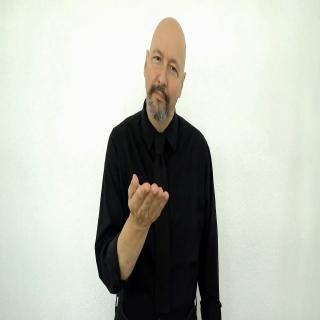ThankYou: (95, 18, 222, 320)
